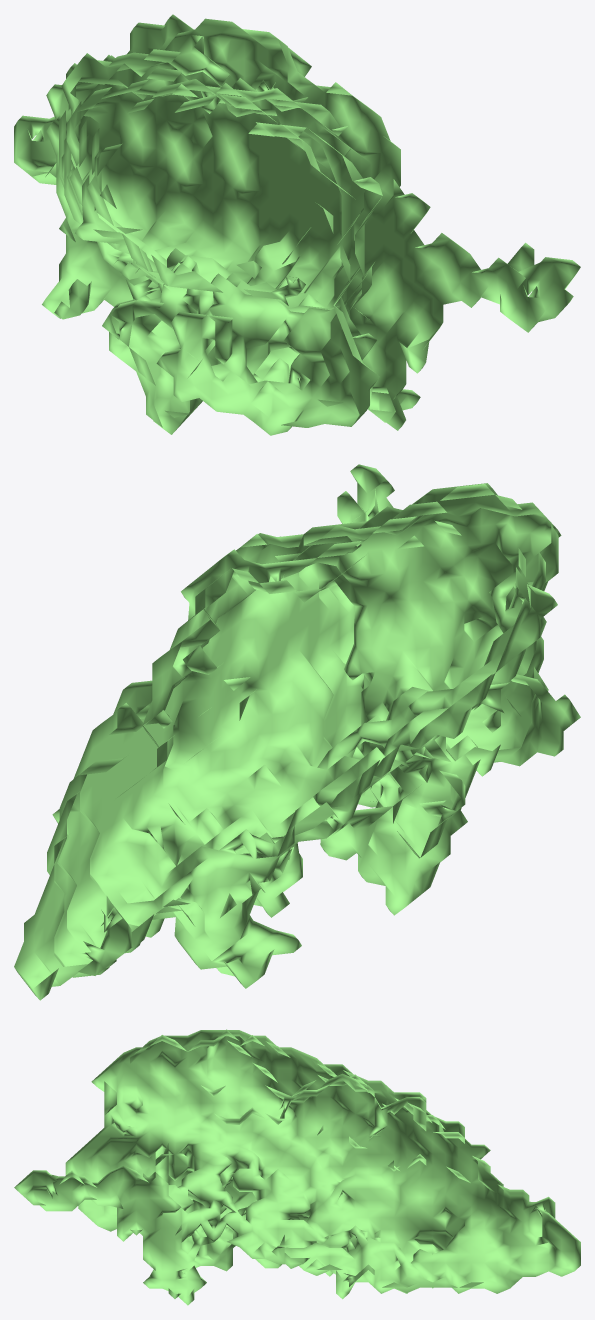
File: osteocyte_36.glb
3 views of the same model, one above another, from view 1: azimuth 30°, elevation 25°; view 2: azimuth 150°, elevation 25°; view 3: azimuth 270°, elevation 25° (orthographic). The views are drawn at different scales.
Visible parts, largest first — view 1: osteocyte_36; view 2: osteocyte_36; view 3: osteocyte_36.
Part boxes in pixels (<box>): osteocyte_36: <box>14,14,580,435</box>; osteocyte_36: <box>14,464,580,1000</box>; osteocyte_36: <box>14,1029,580,1305</box>.
Size of the model in its own units: 8.94 by 8.94 by 19.67.
